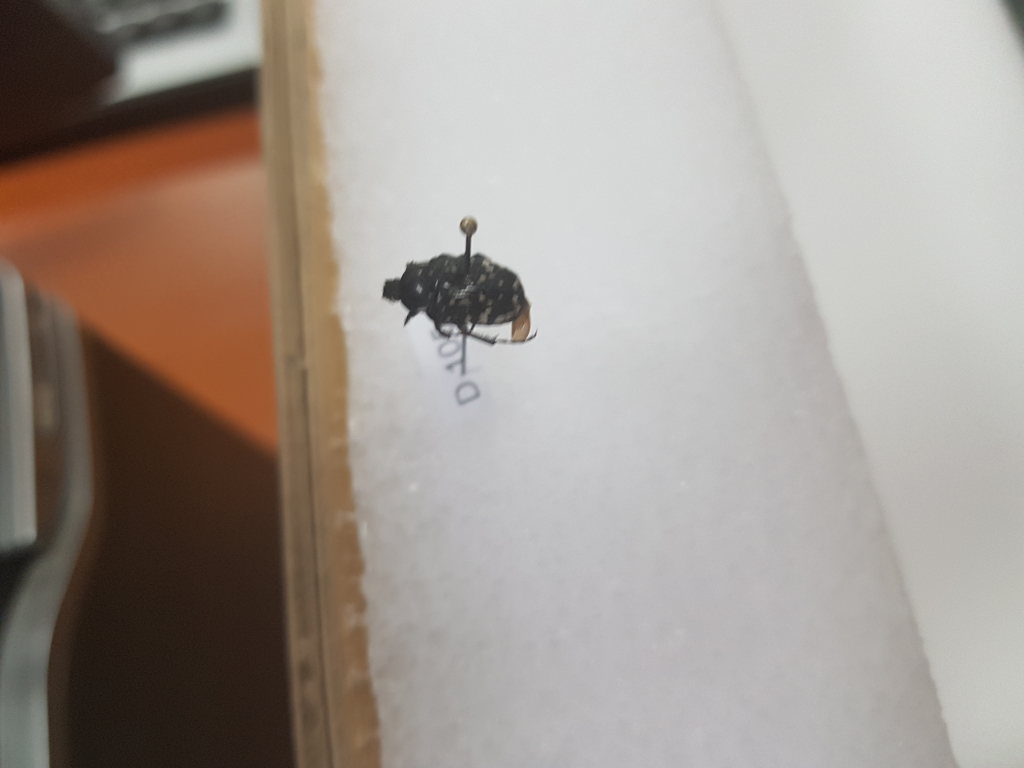Oxythyrea_cinctella: (376, 244, 541, 346)
